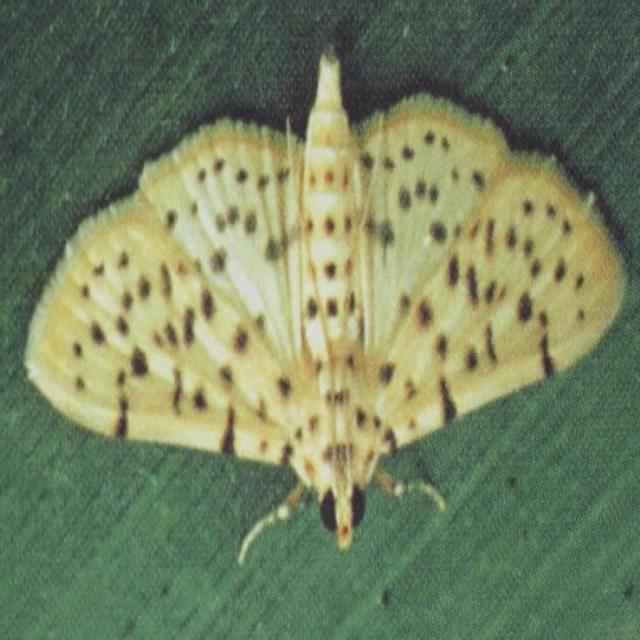peach borer: (17, 48, 632, 546)
